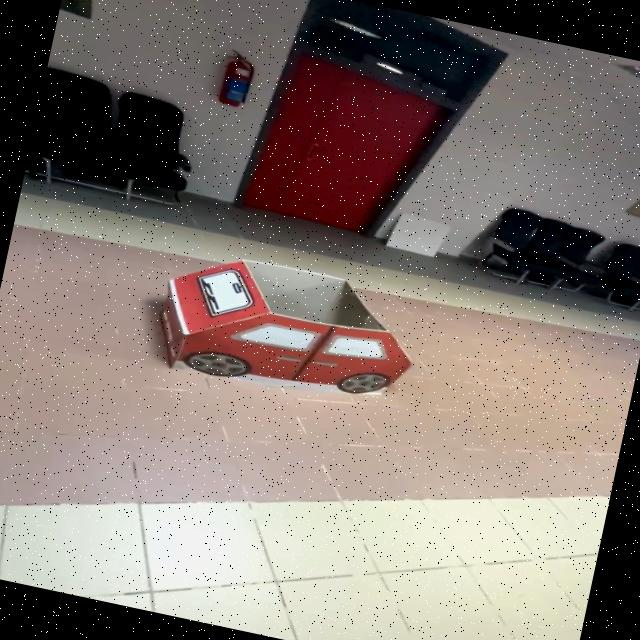red_car: (119, 220, 457, 451)
